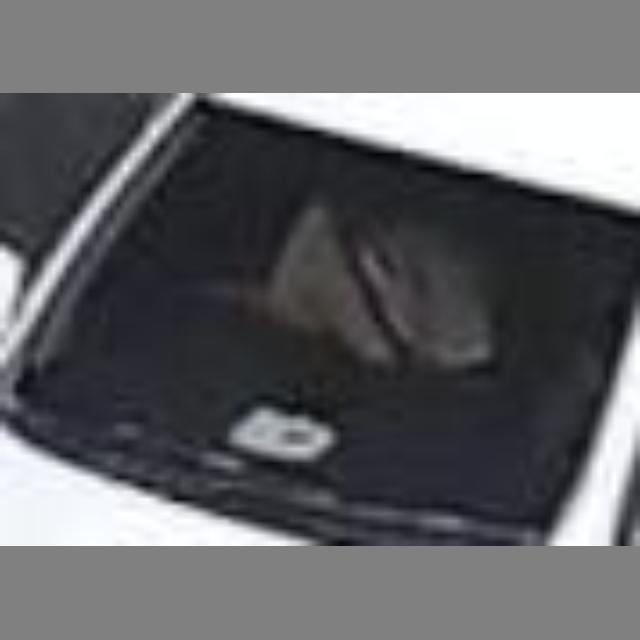pakai: (230, 194, 482, 381)
